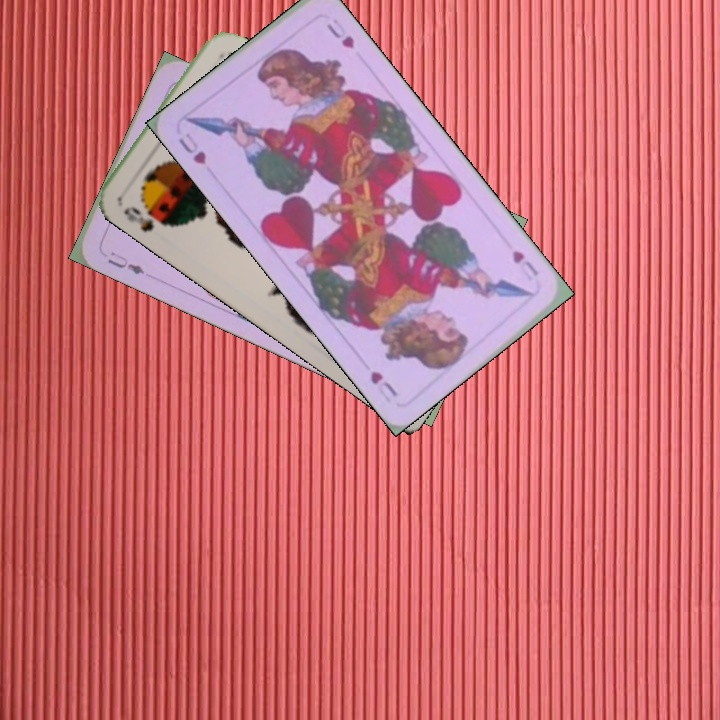EU: (103, 247, 148, 278)
HU: (174, 129, 209, 167), (508, 246, 541, 284)
SO: (119, 201, 157, 235)
